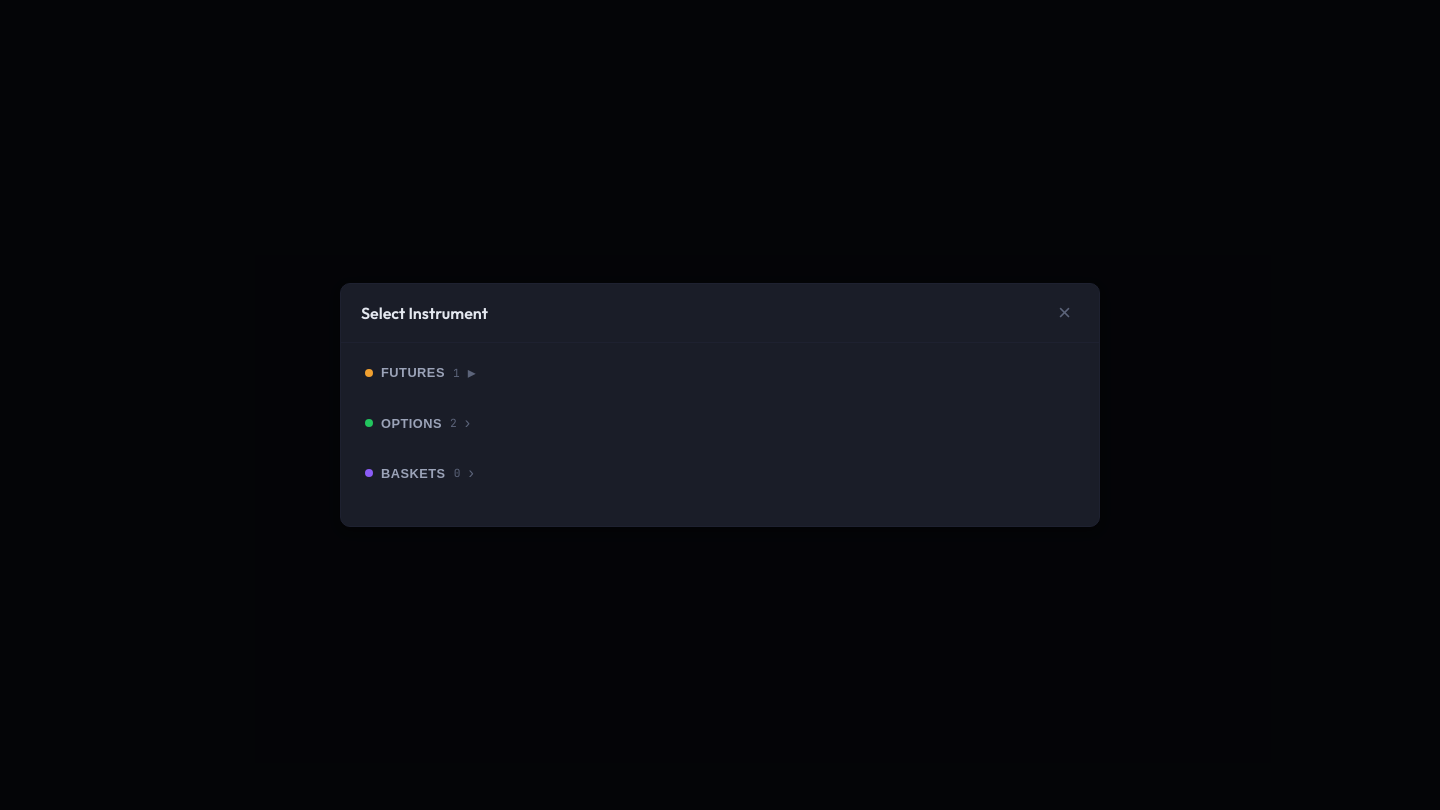
Test: <InstrumentPickerModal> › future leg renders a <ContinuousSpecPicker> per leg (single source of truth shared with futures drill-down)
The width and height of the screenshot is (1440, 810).
Check: the text "Futures" is shown, box [381,365,445,380]
Click the button with test id "picker-baskets-toggle": (413, 473) [361,456,1079,490]
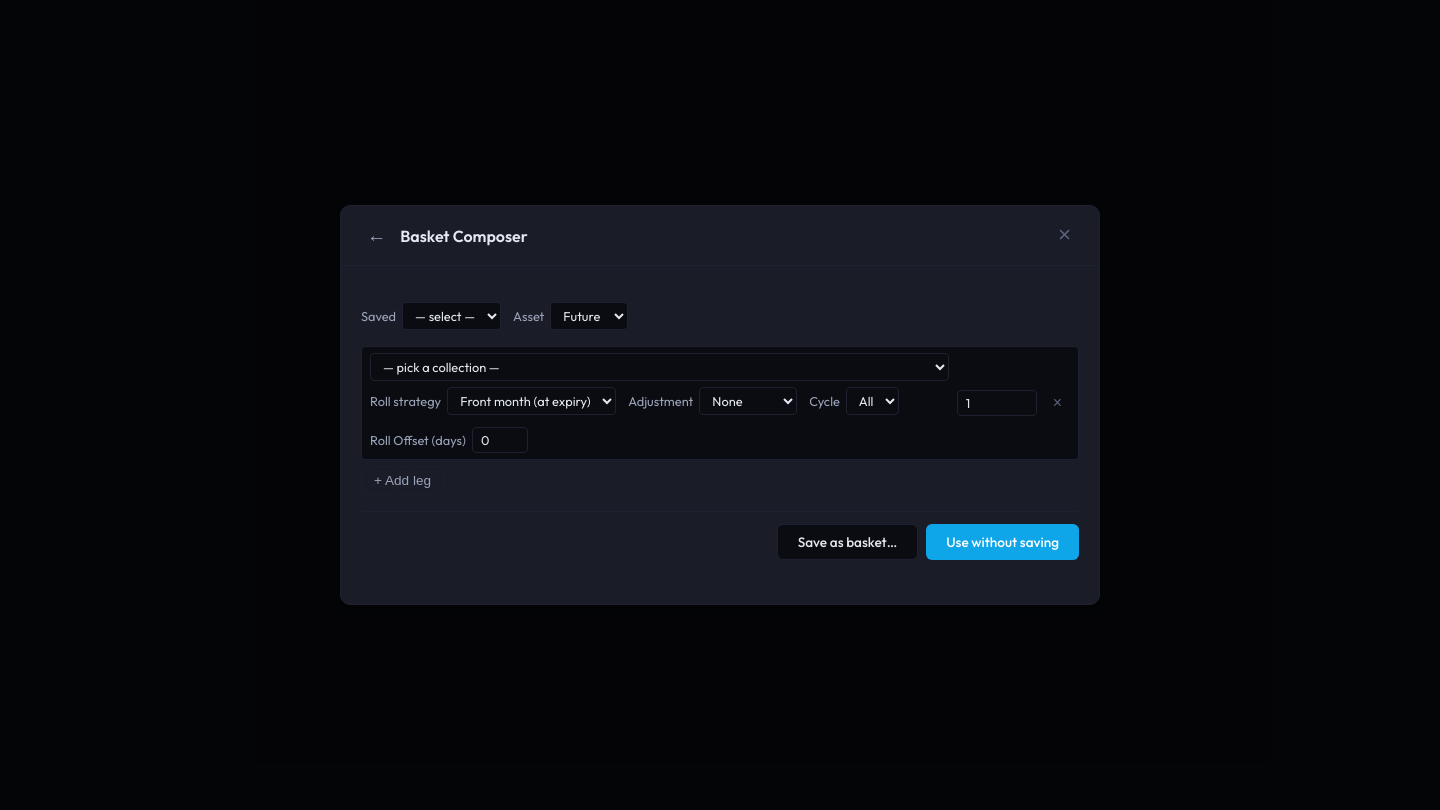
Check: the element with test id "basket-composer" is shown, box [361,278,1079,584]
Check: the element with test id "continuous-spec-picker" is shown, box [370,387,949,453]
Check: the dropdown with test id "continuous-spec-picker-adjustment" is shown, box [699,387,797,415]
